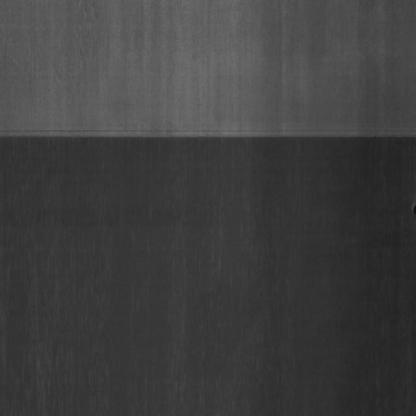punching_hole: (412, 202, 416, 217)
welding_line: (0, 128, 416, 151)
